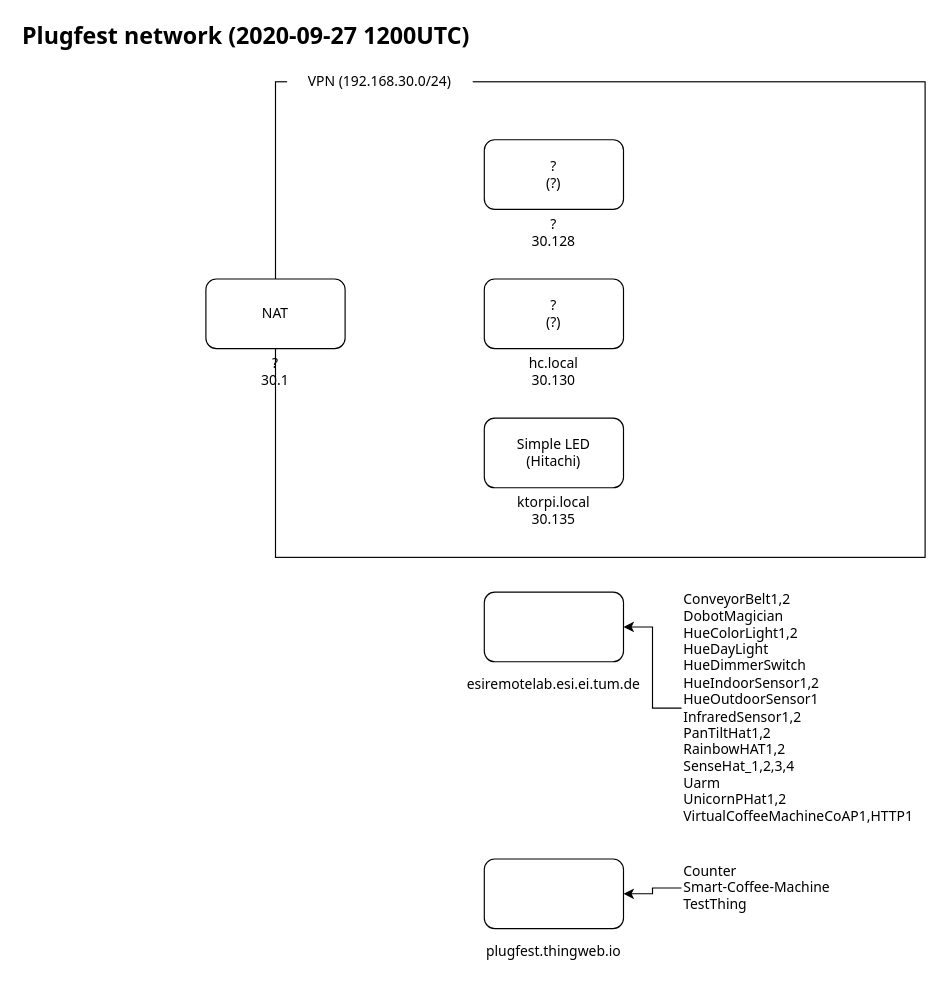
This 945x983 diagram has some shape labels left out. Here are the shapes that lost their labels. From the top down, the centre of each, then its label:
At point 553,626: "Remote Lab. (TUM)".
At point 553,893: "thingweb (Siemens)".
